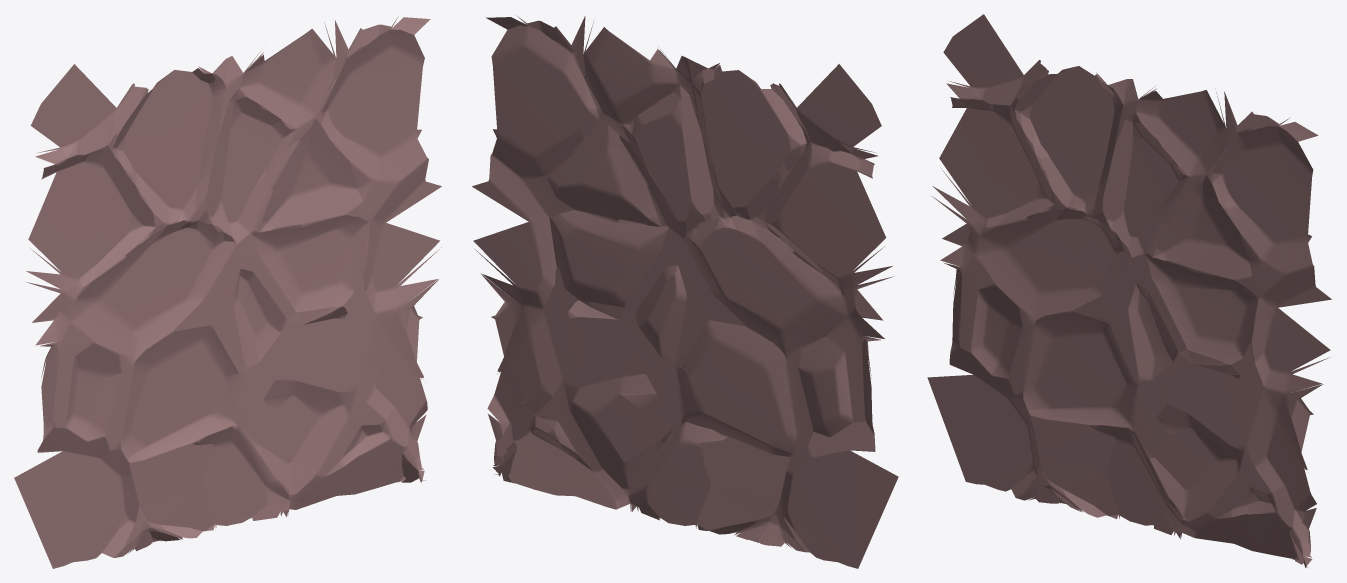
File: plateau.fbx_Rock_Plateau_042LODs.fbx
3 views of the same model, side by side, from view 1: azimuth 30°, elevation 25°; view 2: azimuth 150°, elevation 25°; view 3: azimuth 330°, elevation 25° (orthographic). The views are drawn at different scales.
Visible parts, largest first — view 1: Rock Plateau.042_LOD0; view 2: Rock Plateau.042_LOD0; view 3: Rock Plateau.042_LOD0.
Part boxes in pixels (left/top/right/bottom): Rock Plateau.042_LOD0: left=14, top=16, right=441, bottom=568; Rock Plateau.042_LOD0: left=472, top=15, right=898, bottom=568; Rock Plateau.042_LOD0: left=927, top=14, right=1331, bottom=567.
Size of what is drawn, in the model's own units: 3808 by 4274 by 87.16.
